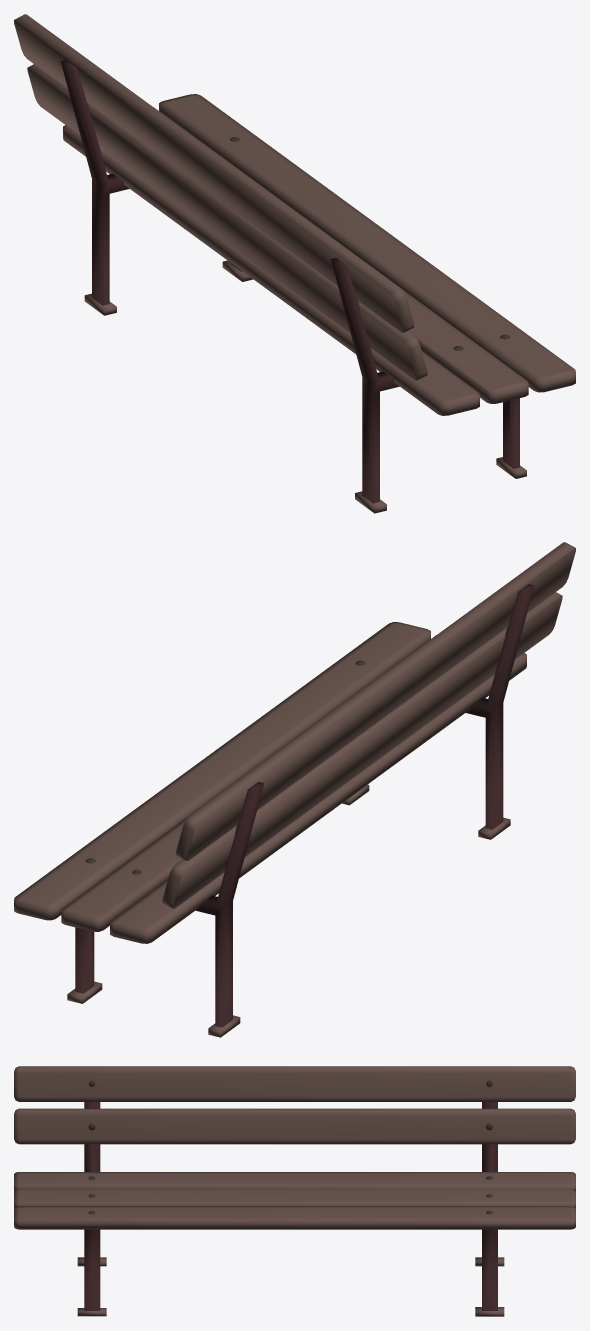
Rendered from Bench_01.glb.
3 renders of one model, top to bottom at view 1: azimuth 30°, elevation 25°; view 2: azimuth 150°, elevation 25°; view 3: azimuth 270°, elevation 25°, orthographic. The views are drawn at different scales.
Visible parts, largest first — view 1: Bench_01; view 2: Bench_01; view 3: Bench_01.
Part boxes in pixels (x1=…): Bench_01: x1=14, y1=14, x2=575, y2=513; Bench_01: x1=14, y1=542, x2=575, y2=1037; Bench_01: x1=14, y1=1066, x2=575, y2=1316.
Size of what is drawn, in the model's own units: 1.03 by 1.34 by 3.6.
1 material, 1 textured.
